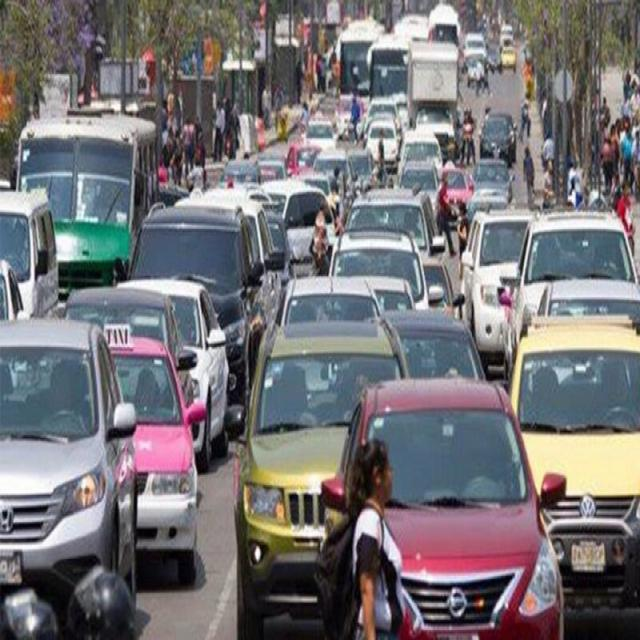placa: (571, 542, 606, 566)
